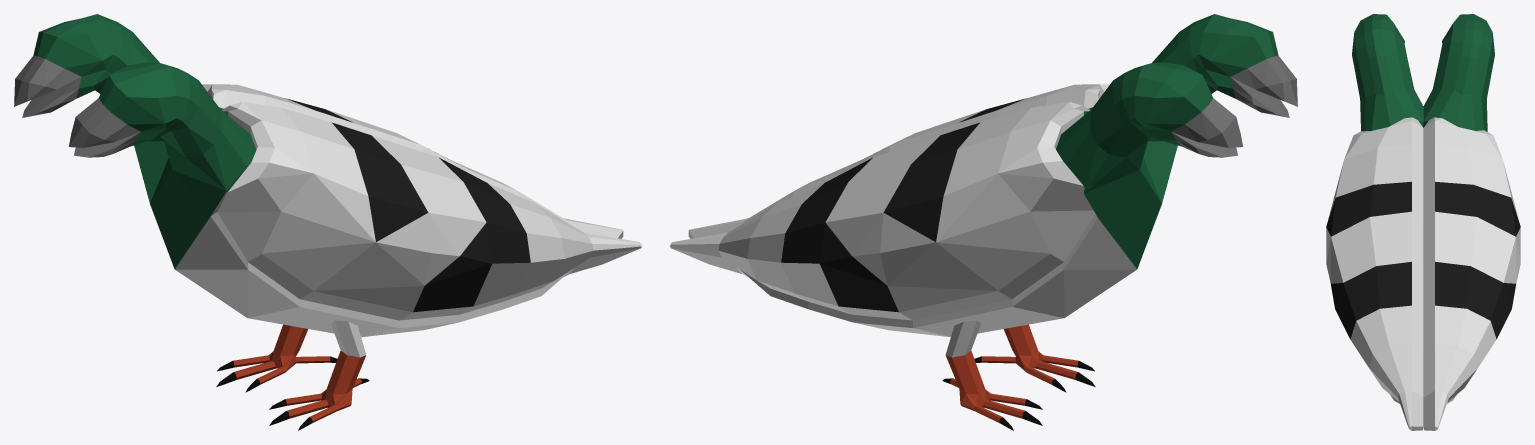
Rendered from pigeon double head3.obj.
The picture shows the model from 3 angles, left to right: view 1: azimuth 30°, elevation 25°; view 2: azimuth 150°, elevation 25°; view 3: azimuth 270°, elevation 25°; orthographic projection. The views are drawn at different scales.
Visible parts, largest first — view 1: Cube.013_Cube.014, Cube.000_Cube.020, Cube.003_Cube.022, Cube.001_Cube.021, Cube.004_Cube.023, Cube.005_Cube.024; view 2: Cube.013_Cube.014, Cube.000_Cube.020, Cube.003_Cube.022, Cube.001_Cube.021, Cube.004_Cube.023, Cube.005_Cube.024; view 3: Cube.013_Cube.014, Cube.003_Cube.022, Cube.000_Cube.020.
Boxes of the visible parts, x1=… form: Cube.013_Cube.014: x1=175, y1=84, x2=641, y2=357; Cube.000_Cube.020: x1=33, y1=14, x2=256, y2=268; Cube.003_Cube.022: x1=286, y1=98, x2=530, y2=312; Cube.001_Cube.021: x1=14, y1=55, x2=140, y2=157; Cube.004_Cube.023: x1=233, y1=324, x2=365, y2=423; Cube.005_Cube.024: x1=216, y1=356, x2=369, y2=430; Cube.013_Cube.014: x1=670, y1=84, x2=1136, y2=357; Cube.000_Cube.020: x1=1056, y1=14, x2=1278, y2=268; Cube.003_Cube.022: x1=781, y1=98, x2=1025, y2=312; Cube.001_Cube.021: x1=1171, y1=55, x2=1297, y2=157; Cube.004_Cube.023: x1=946, y1=324, x2=1078, y2=423; Cube.005_Cube.024: x1=942, y1=356, x2=1095, y2=430; Cube.013_Cube.014: x1=1326, y1=117, x2=1520, y2=430; Cube.003_Cube.022: x1=1326, y1=181, x2=1520, y2=339; Cube.000_Cube.020: x1=1352, y1=14, x2=1494, y2=131.
Bounding box in the file's own units: 8.55 × 5.44 × 3.45.
